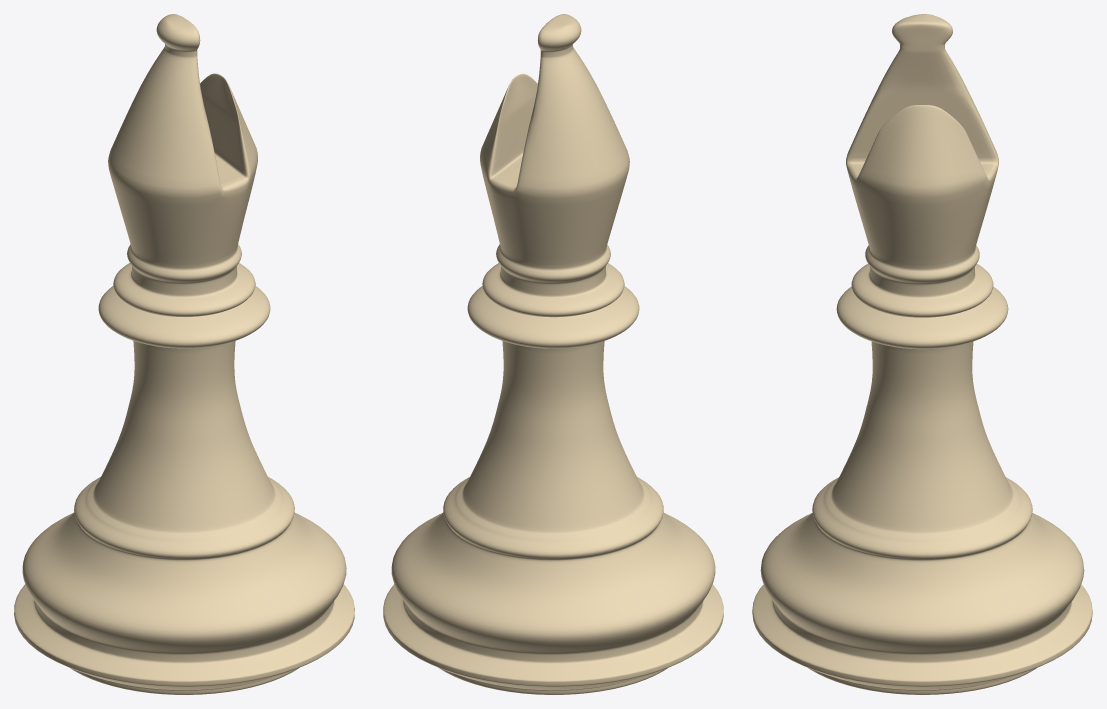
The model's file is gercektam_b_w.glb.
3 views of the same model, side by side, from view 1: azimuth 30°, elevation 25°; view 2: azimuth 150°, elevation 25°; view 3: azimuth 270°, elevation 25° (orthographic).
Visible parts, largest first — view 1: Sphere.018; view 2: Sphere.018; view 3: Sphere.018.
Boxes of the visible parts, x1=… form: Sphere.018: x1=14, y1=14, x2=354, y2=694; Sphere.018: x1=383, y1=14, x2=723, y2=694; Sphere.018: x1=752, y1=14, x2=1092, y2=694.
Bounding box in the file's own units: 1.15 × 2.3 × 1.15.
